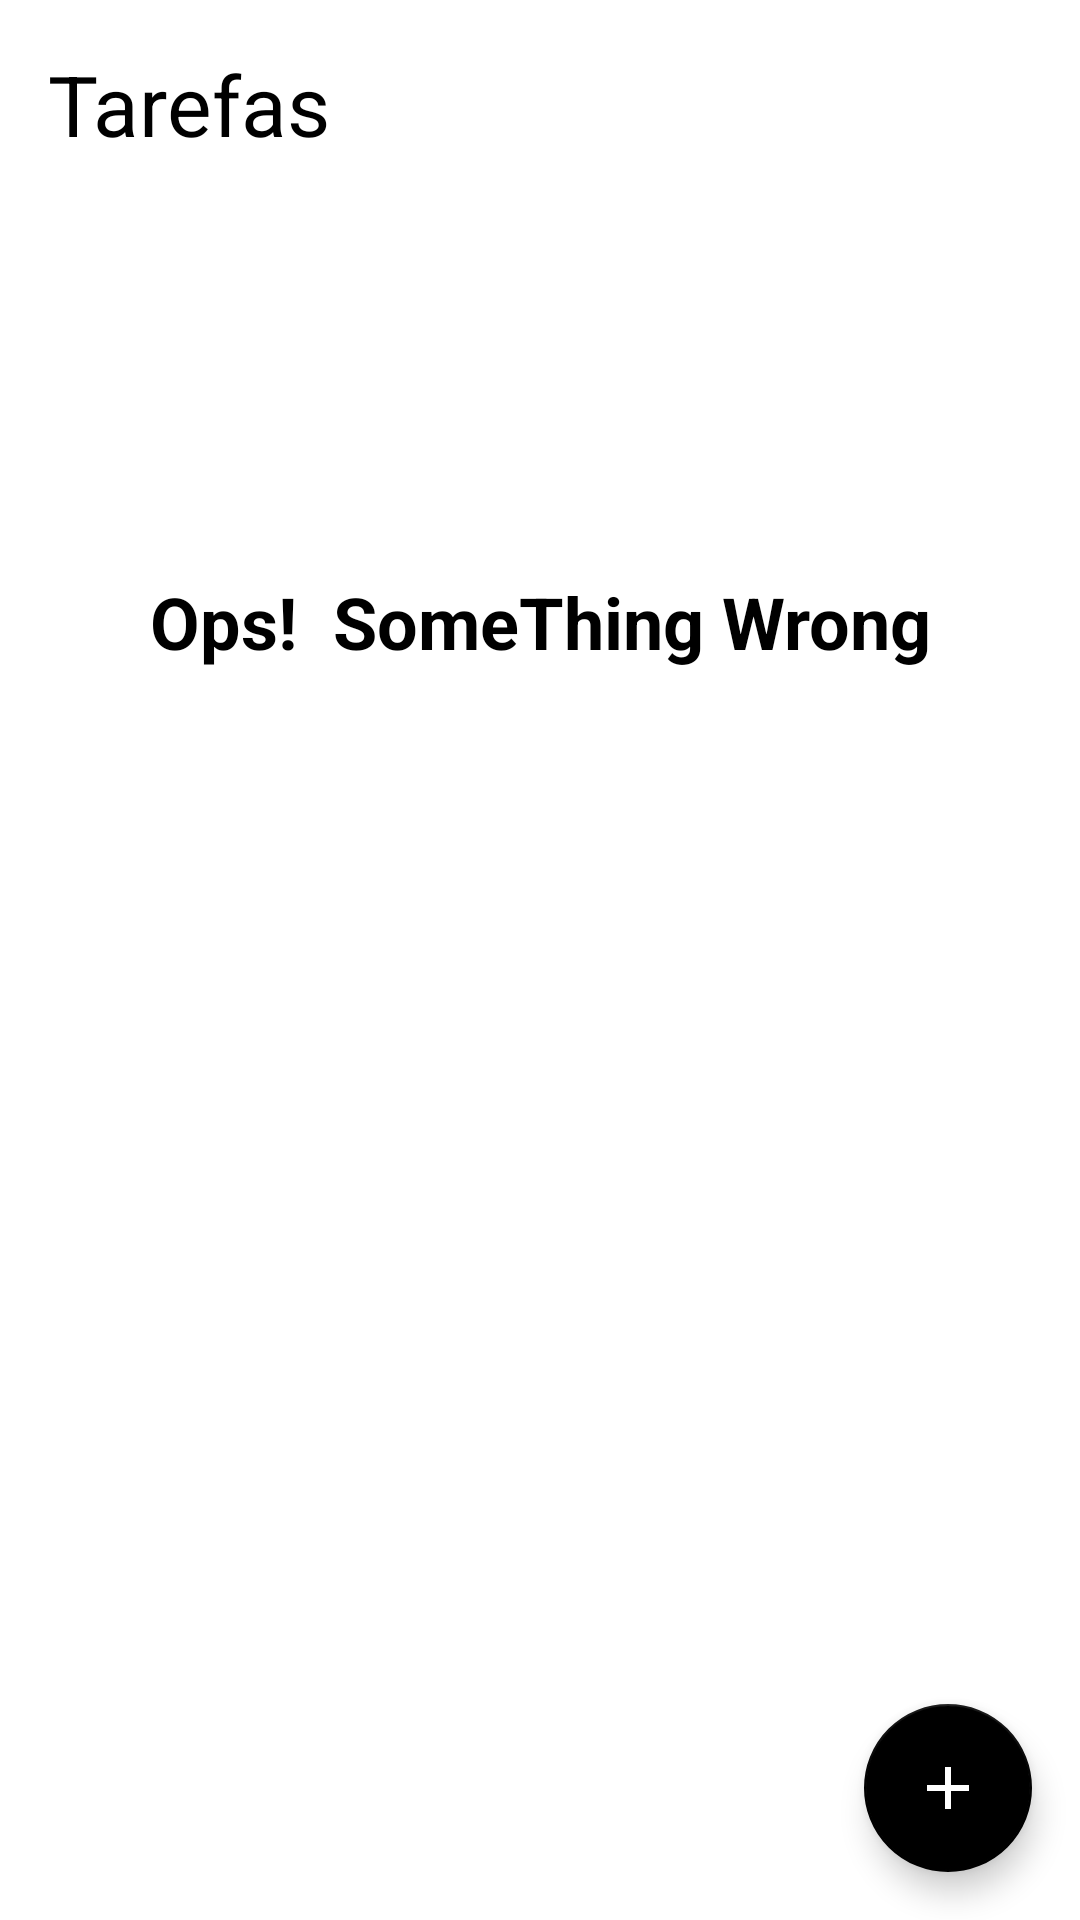

Named icons in this screenshot (1080w x 1920h) and their centers, (x,y):
Nova Tarefa: (948,1788)
